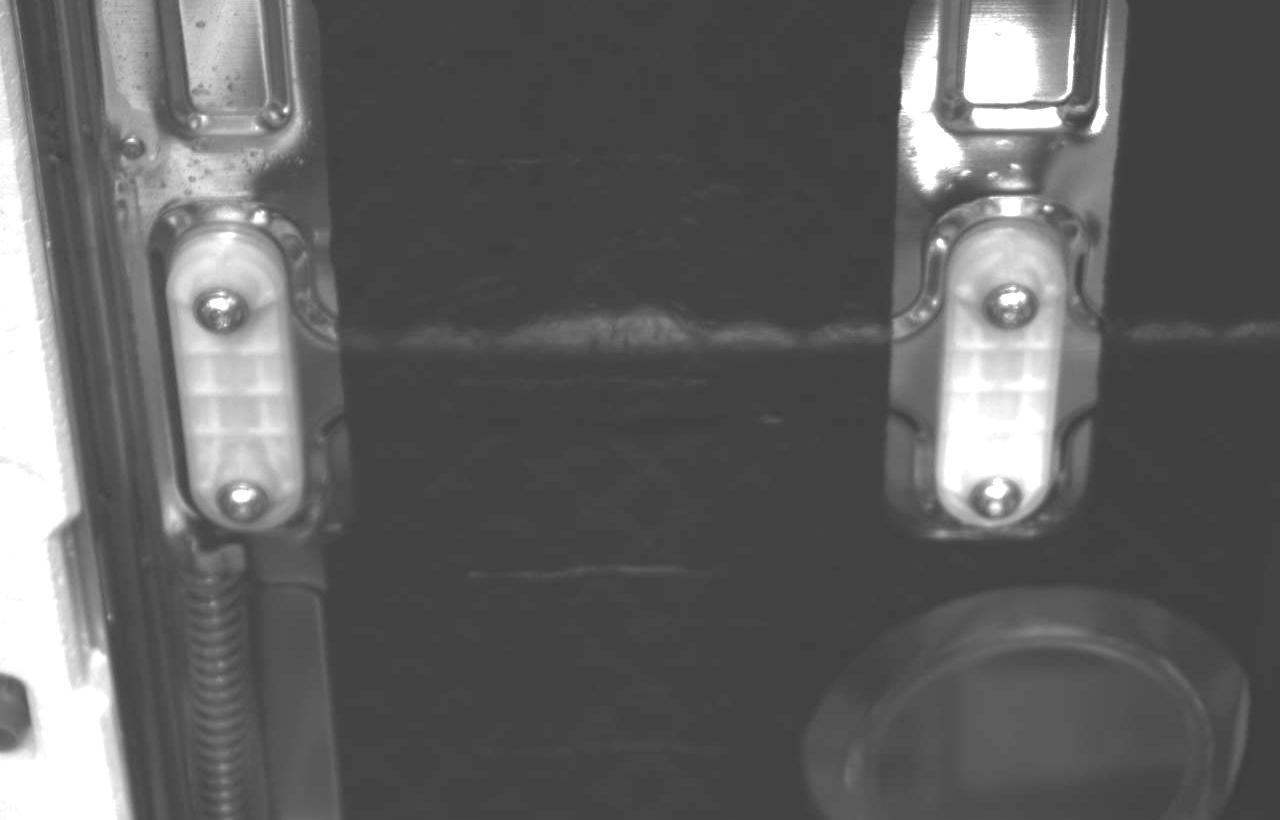vida-ok: (177, 287, 249, 354), (974, 271, 1041, 338), (966, 461, 1031, 529), (211, 474, 277, 532)
